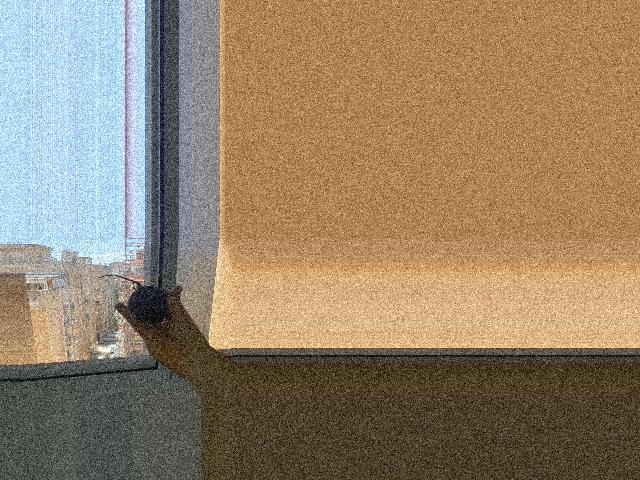beet: (95, 274, 167, 323)
